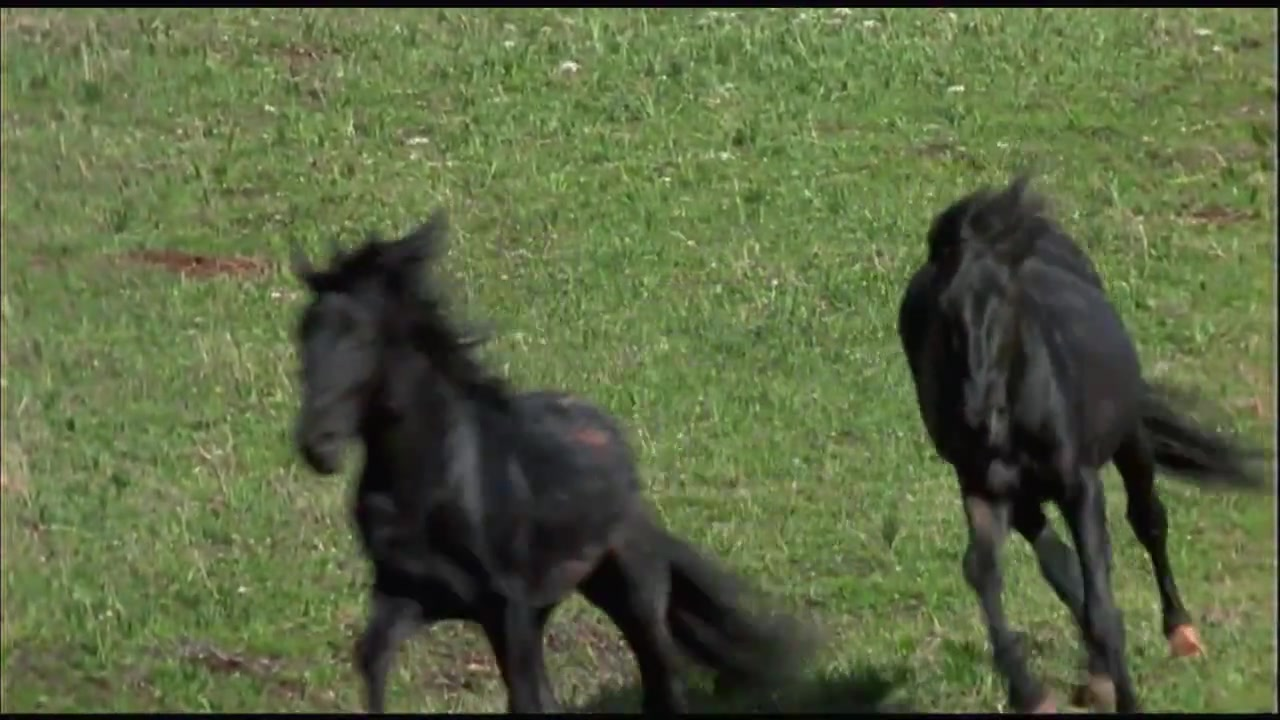horse: (287, 211, 892, 714)
